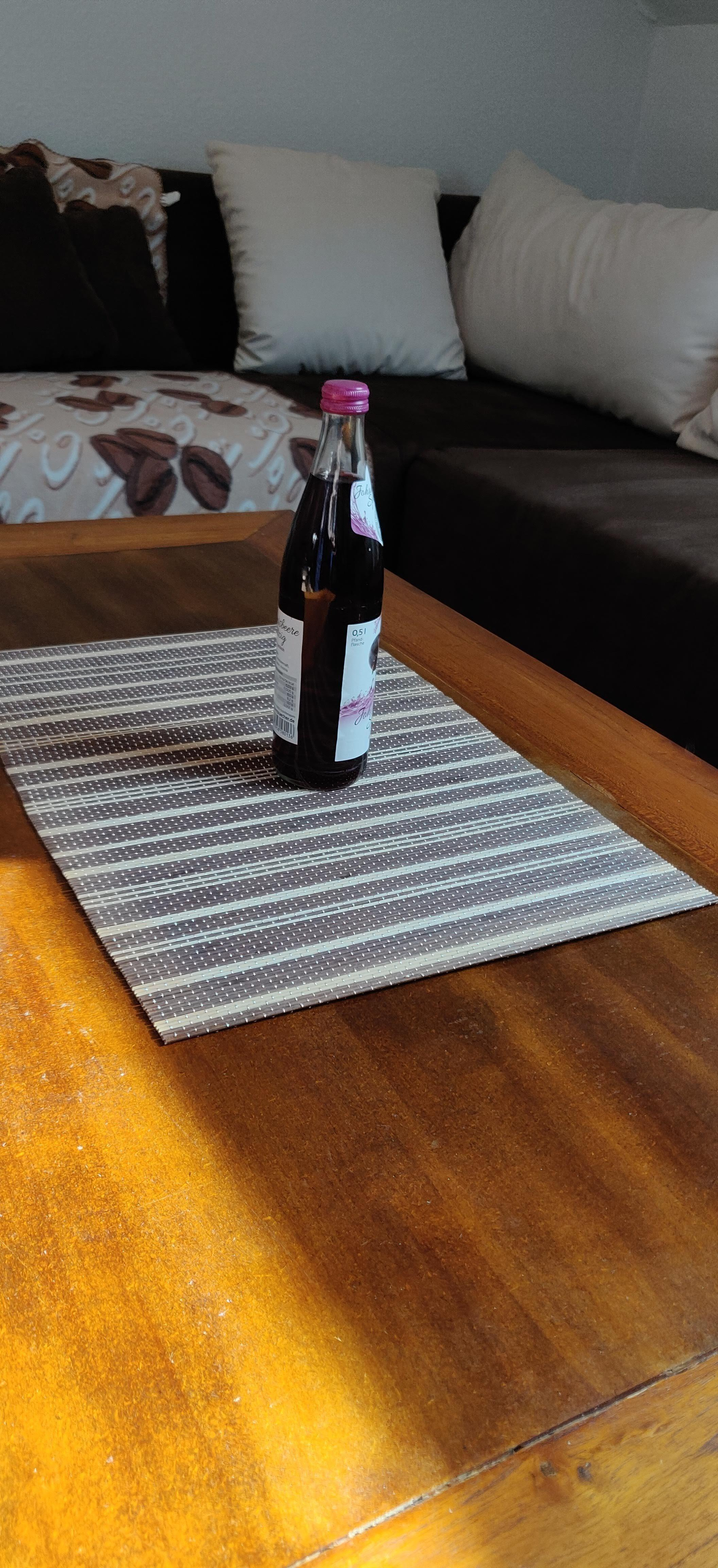bottle-glass: (264, 377, 395, 796)
